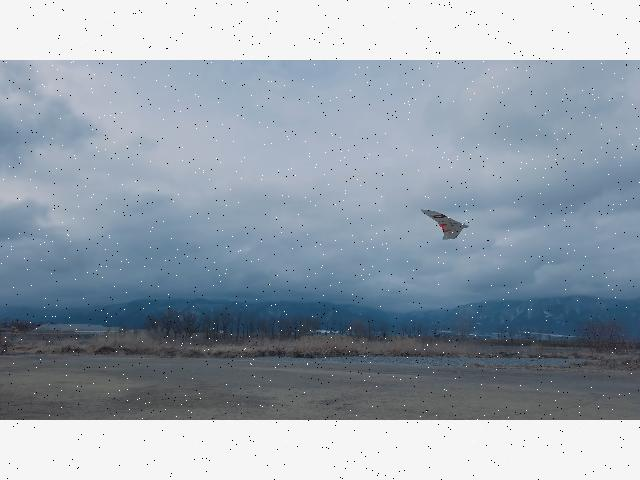Anti-Drone: (418, 206, 472, 242)
